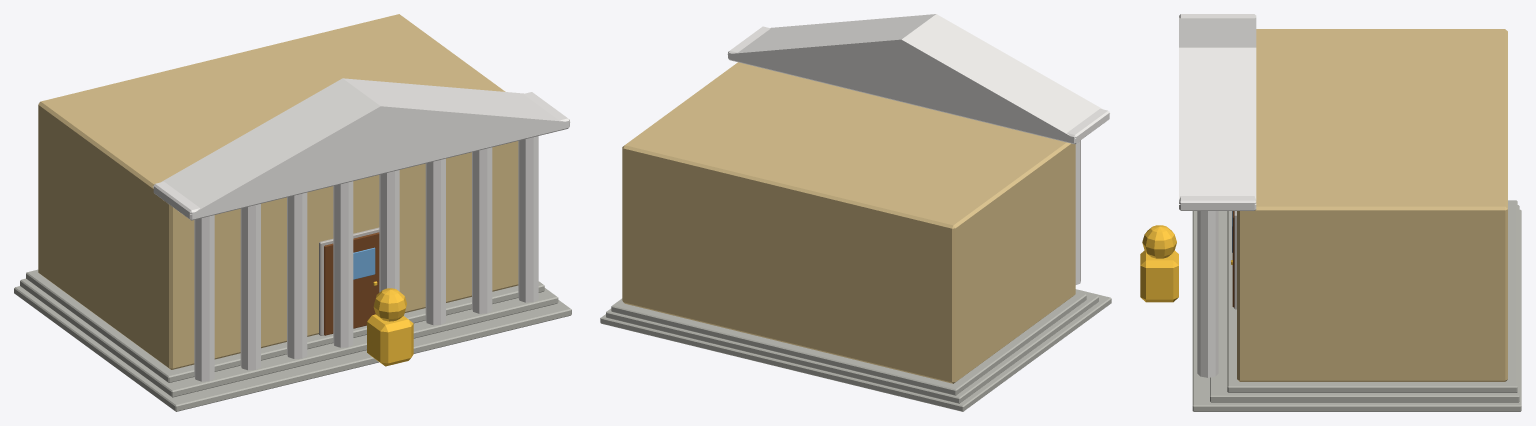
Rendered from Museum.fbx.
The picture shows the model from 3 angles, left to right: view 1: azimuth 30°, elevation 25°; view 2: azimuth 150°, elevation 25°; view 3: azimuth 270°, elevation 25°; orthographic projection. The views are drawn at different scales.
Visible parts, largest first — view 1: Museum; view 2: Museum; view 3: Museum.
Part boxes in pixels (x1,y1,x2,y2): Museum: (14, 14, 571, 411); Museum: (600, 14, 1111, 411); Museum: (1140, 14, 1521, 411).
Bounding box in the file's own units: 24 × 15.2 × 19.7.
Materials: 1 (1 with a texture image).
